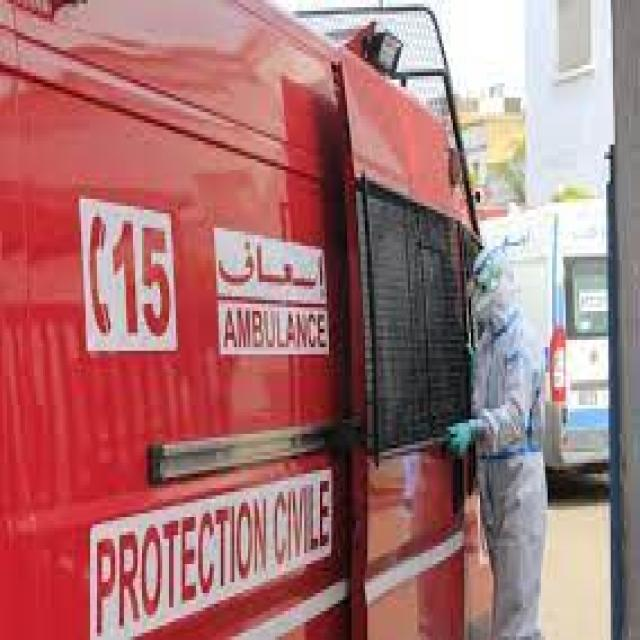ambulance: (7, 19, 479, 638)
